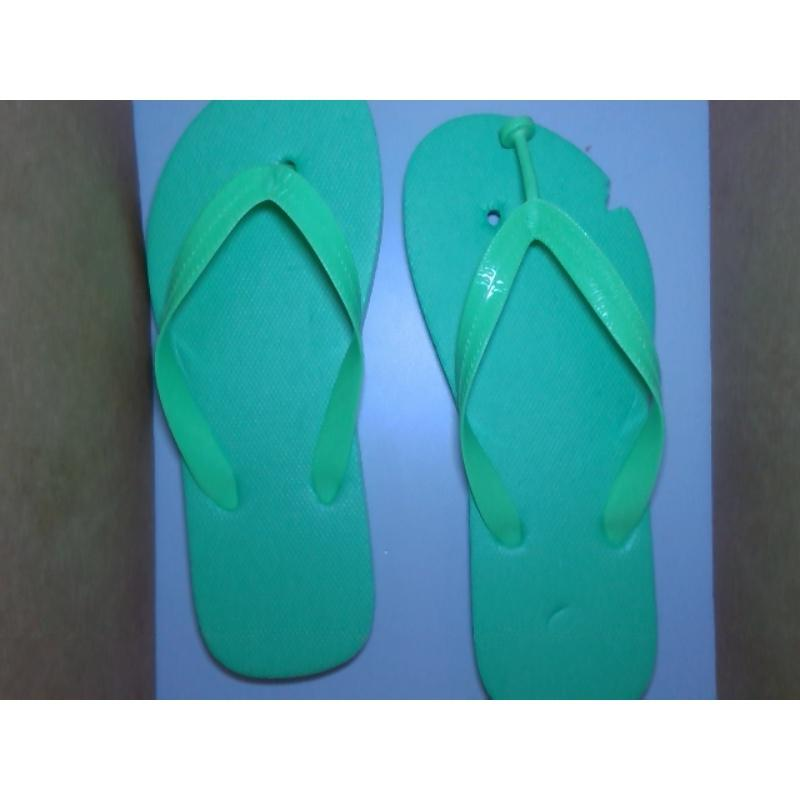chipped: (590, 156, 649, 224)
detached: (492, 108, 549, 175)
